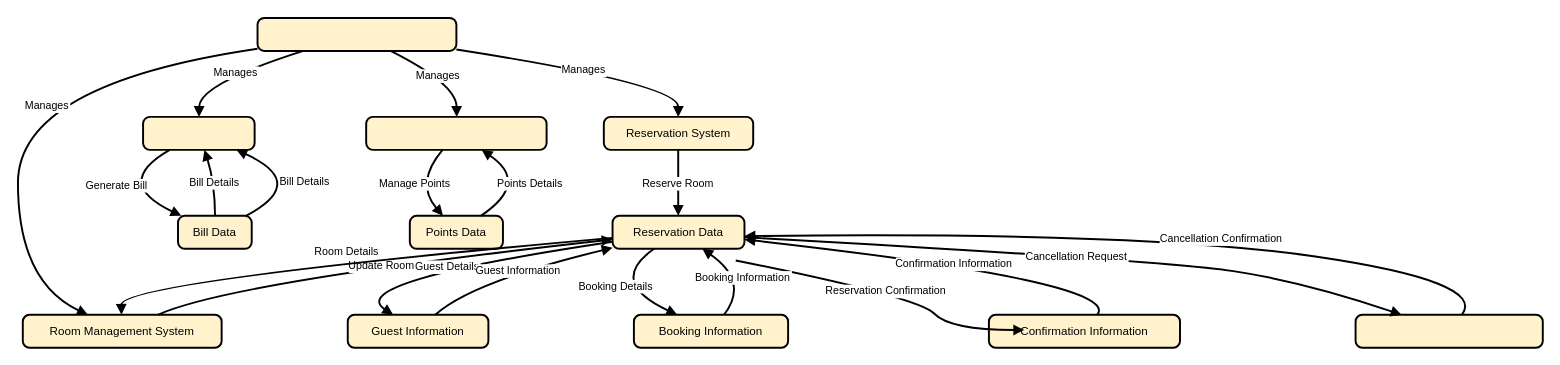
The diagram is 1560 pixels wide and 365 high, and some of its shapes have lost their labels. The centre of each missing label's shape, as x and y in pixels:
"Billing System" goes at (198,132).
"Cancellation Information" goes at (1448,330).
"Hotel Management System" goes at (356,33).
"Loyalty Program System" goes at (456,132).
